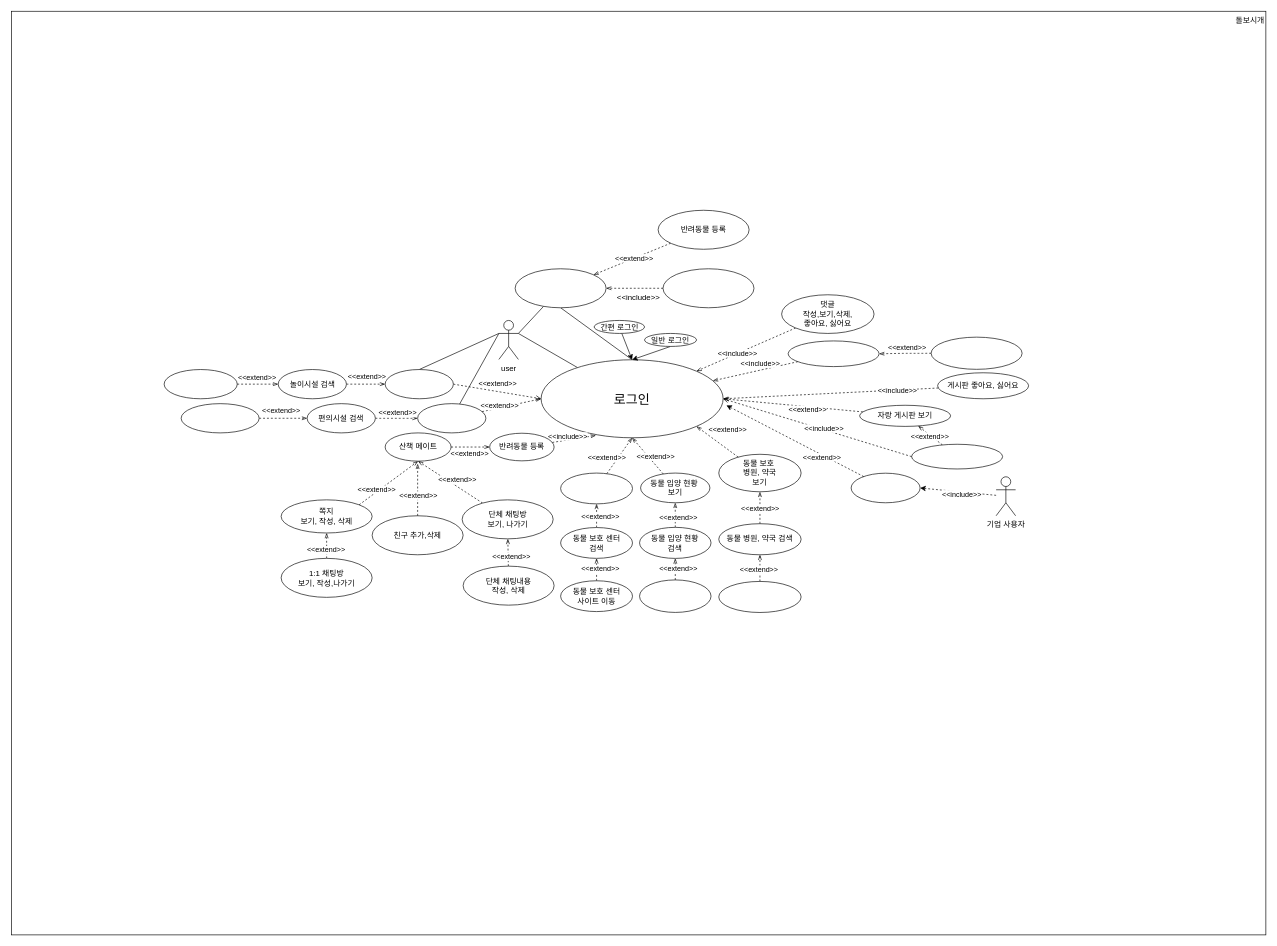
Some shapes in this 1277 by 946 pixel diagram are drawn without their labels. Here are the shapes that lost their labels. From the top down, the centre of each, then its label:
the point at 560,288: 회원가입
the point at 708,288: 회원 등록
the point at 833,353: 산책 메이트 게시판
the point at 976,353: 산책 메이트 게시판 작성, 삭제
the point at 200,384: 놀이시설 사이트 이동
the point at 418,384: 놀이시설 보기
the point at 220,418: 편의시설 사이트 이동
the point at 451,418: 편의시설 보기
the point at 957,456: 자랑 게시판 작성, 삭제
the point at 596,488: 동물 보호 센터 보기
the point at 885,488: 기업자인증
the point at 675,595: 동물 입양 현황 사이트 이동
the point at 759,596: 동물 병원, 약국 상세 정보 보기
